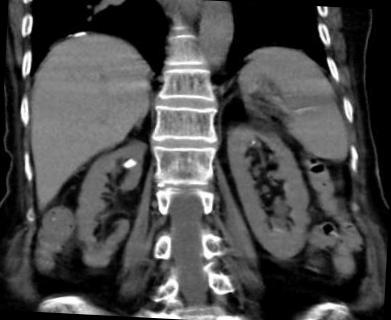Tas_Var: (121, 158, 138, 174), (249, 138, 257, 146)
